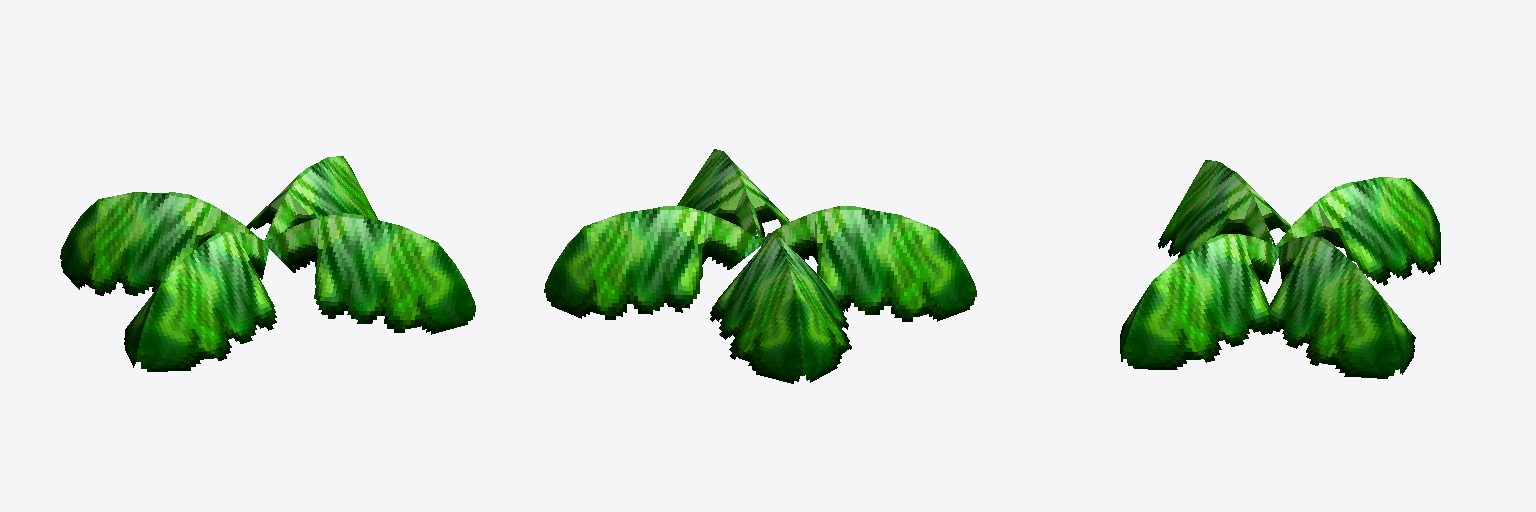
3 renders of one model, left to right at view 1: azimuth 30°, elevation 25°; view 2: azimuth 150°, elevation 25°; view 3: azimuth 270°, elevation 25°, orthographic.
Parts seen in each view (by area): view 1: Leaf, Leaf3, Leaf2, Leaf1; view 2: Leaf1, Leaf3, Leaf2, Leaf; view 3: Leaf, Leaf1, Leaf2, Leaf3.
Part boxes in pixels (left/top/right/bottom): Leaf: left=266, top=213, right=475, bottom=334; Leaf3: left=124, top=231, right=276, bottom=371; Leaf2: left=60, top=192, right=258, bottom=295; Leaf1: left=246, top=156, right=377, bottom=241; Leaf1: left=544, top=206, right=762, bottom=319; Leaf3: left=760, top=206, right=976, bottom=321; Leaf2: left=710, top=232, right=851, bottom=383; Leaf: left=677, top=149, right=789, bottom=239; Leaf: left=1120, top=234, right=1278, bottom=369; Leaf1: left=1267, top=236, right=1415, bottom=378; Leaf2: left=1275, top=177, right=1440, bottom=285; Leaf3: left=1158, top=160, right=1290, bottom=257.
Size of the model in its own units: 32.92 by 9.52 by 27.85.
Materials: 1 (1 with a texture image).